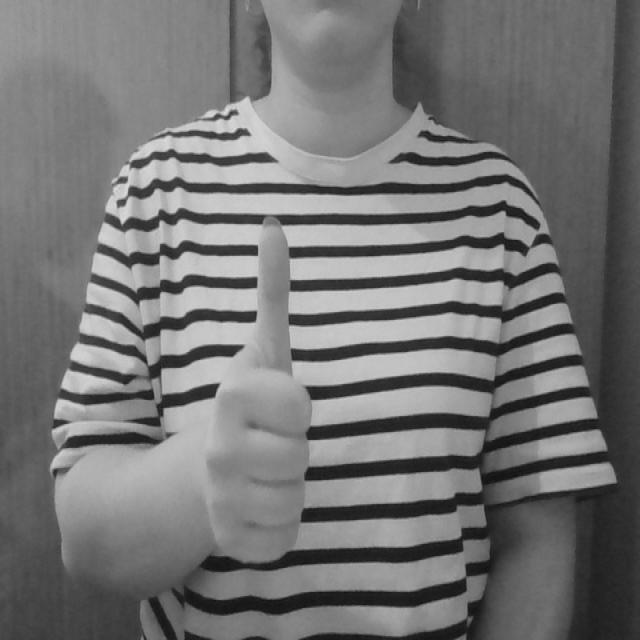Tamam: (195, 202, 322, 574)
